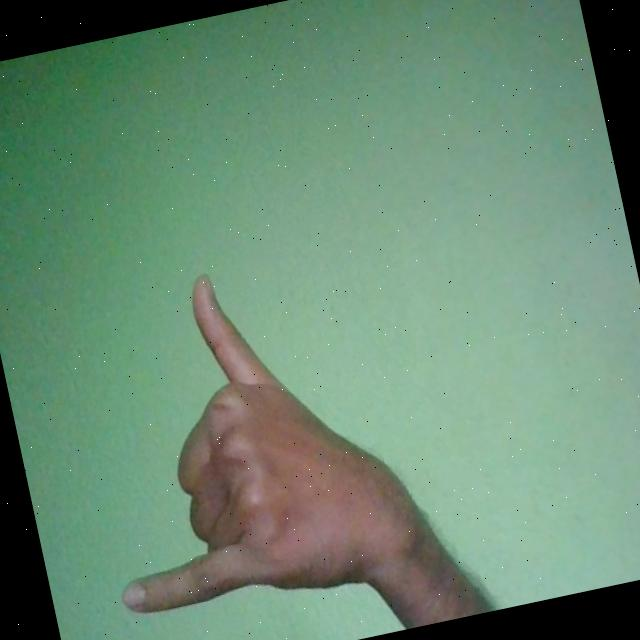Call Me: (62, 239, 440, 631)
